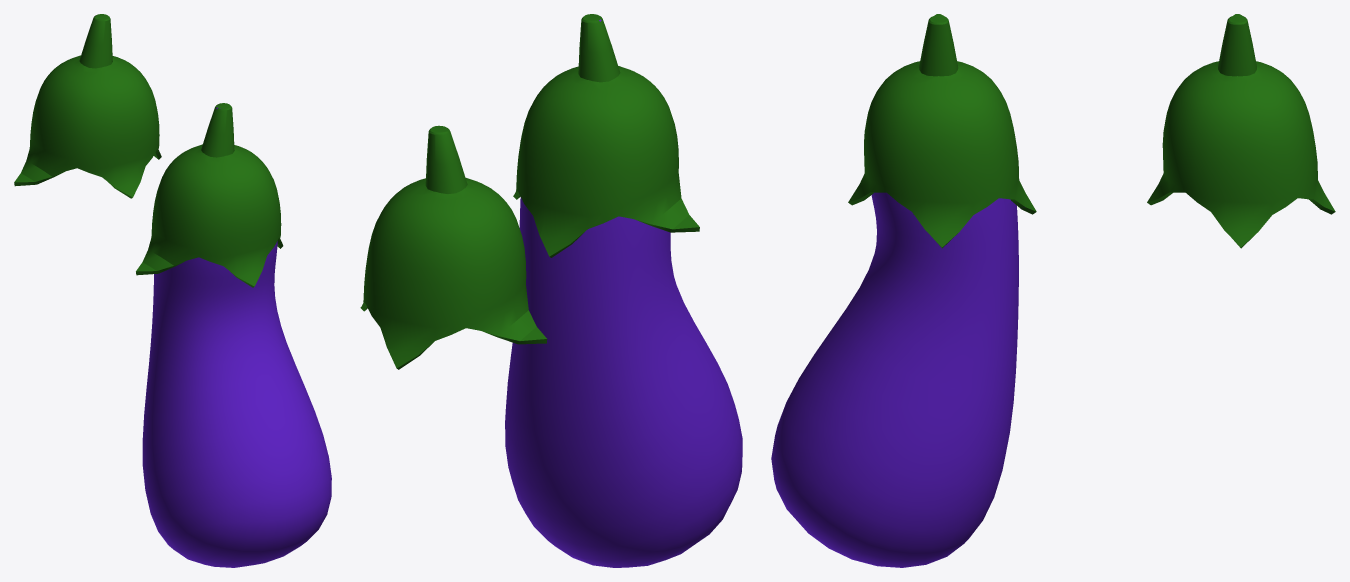
The model's file is eggplant.fbx.
3 renders of one model, left to right at view 1: azimuth 30°, elevation 25°; view 2: azimuth 150°, elevation 25°; view 3: azimuth 270°, elevation 25°, orthographic. The views are drawn at different scales.
Parts seen in each view (by area): view 1: Cube.001, Cube; view 2: Cube.001, Cube; view 3: Cube.001, Cube.
Boxes of the visible parts, <box> form: Cube.001: <box>136,103,331,567</box>; Cube: <box>14,14,161,198</box>; Cube.001: <box>505,14,742,567</box>; Cube: <box>360,125,547,369</box>; Cube.001: <box>771,14,1036,567</box>; Cube: <box>1147,14,1335,248</box>.
Bounding box in the file's own units: 408 × 1061 × 1004.
